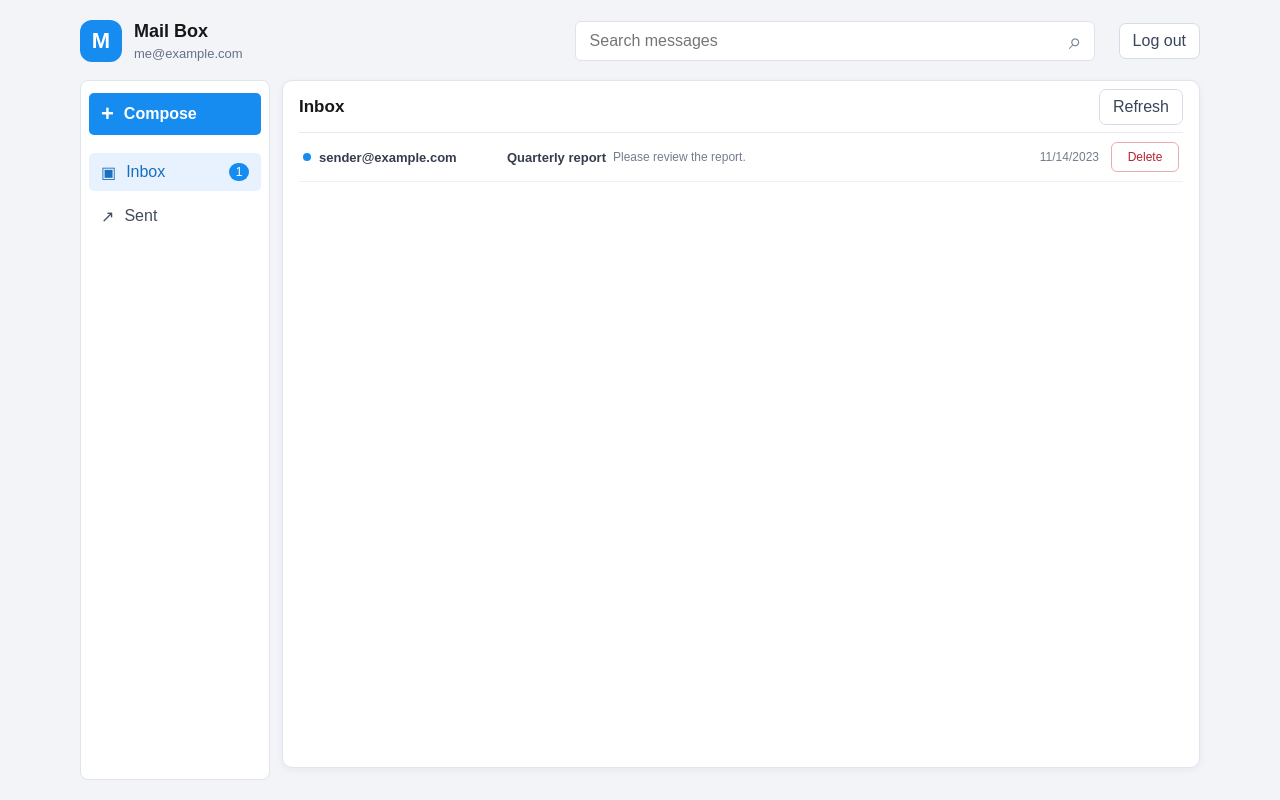
Test: Inbox mail deletion › keeps the mail visible and shows an error when deletion fails
The image size is (1280, 800).
Step 1. Click the button with aria-label "Delete Quarterly report" → x=1145, y=157, box [1111,142,1179,172]
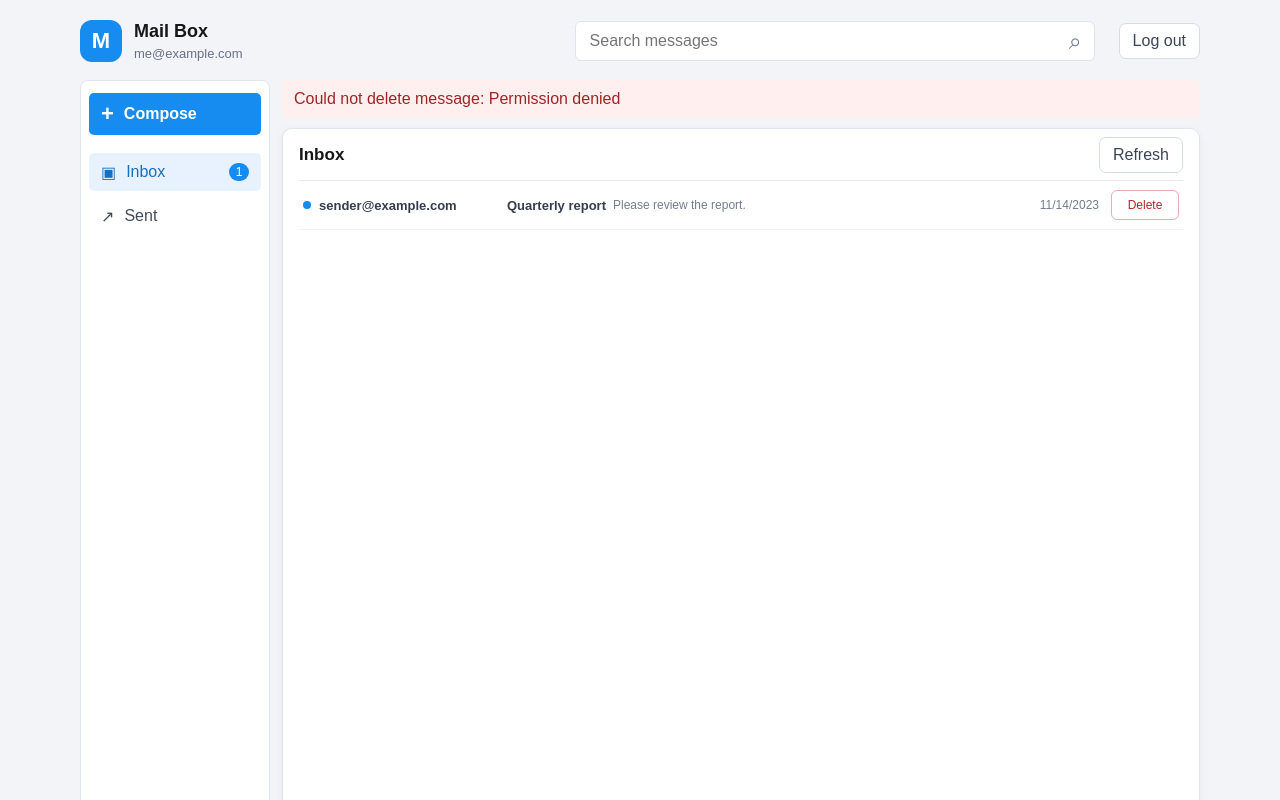
Expected: the text "Quarterly report" is shown, [507,198,606,212]
Expected: the message reads "Could not delete message: Permission denied", [294,90,620,107]
